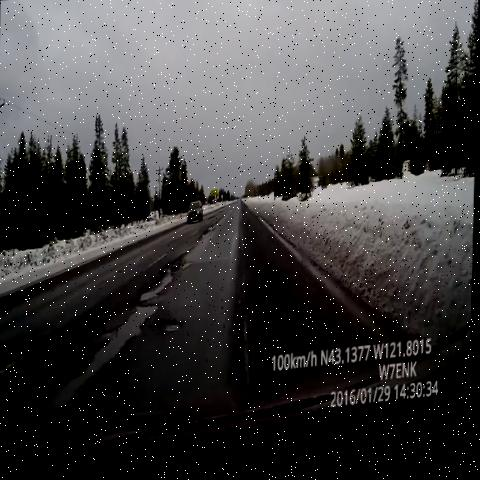pothole: (59, 240, 202, 410), (193, 221, 233, 253)
